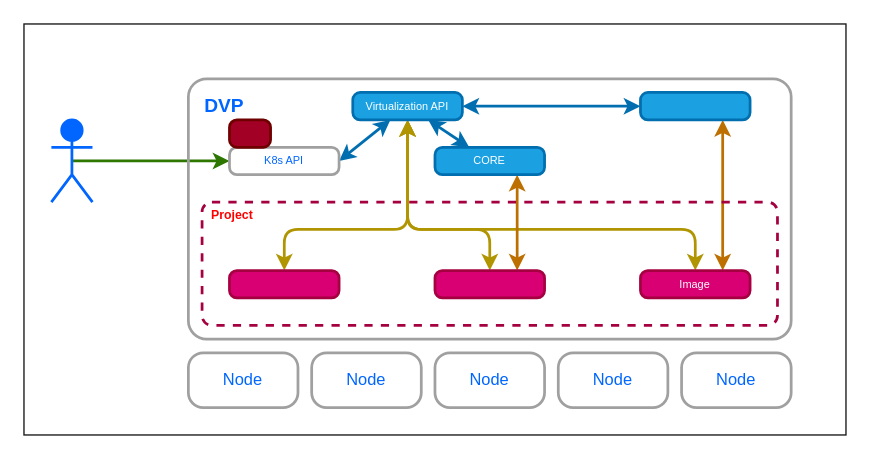
Image size: 870x459. Some labels were removed from this diagram. Here are the shapes that lost their labels. From the top down, the centre of each, then its label:
point 694,105: DVCR
point 249,133: RBAC
point 71,160: User
point 283,284: Disk
point 489,284: VM
